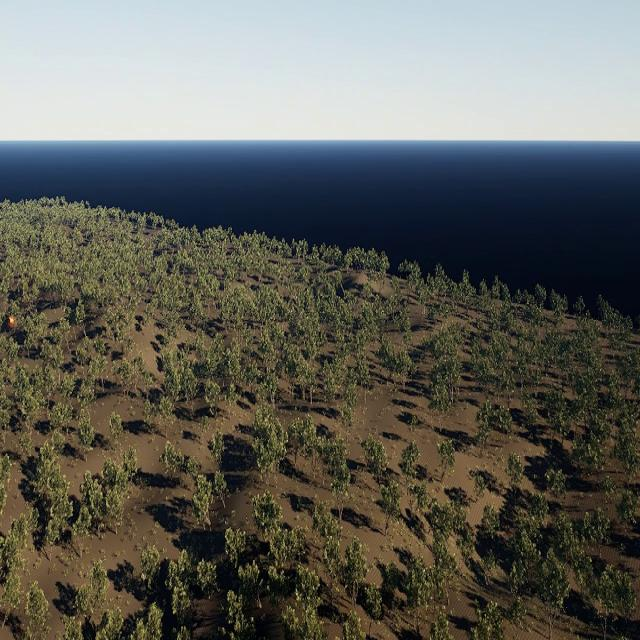fire: (8, 315, 14, 327)
